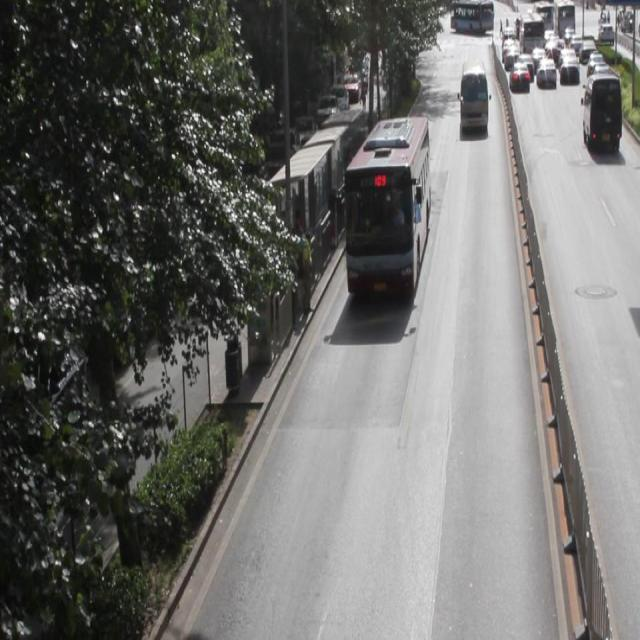truck: (582, 72, 622, 151), (460, 59, 488, 133)
van: (346, 115, 427, 297)
